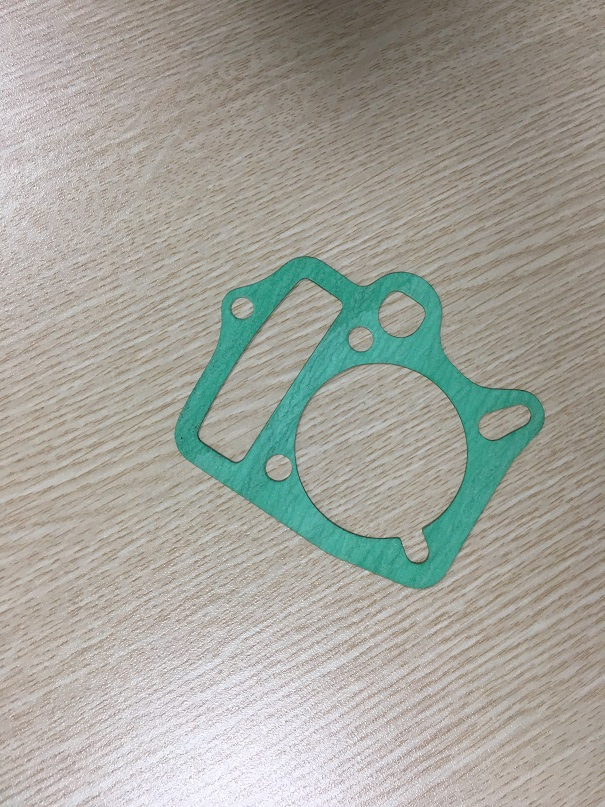type4: (166, 242, 559, 595)
